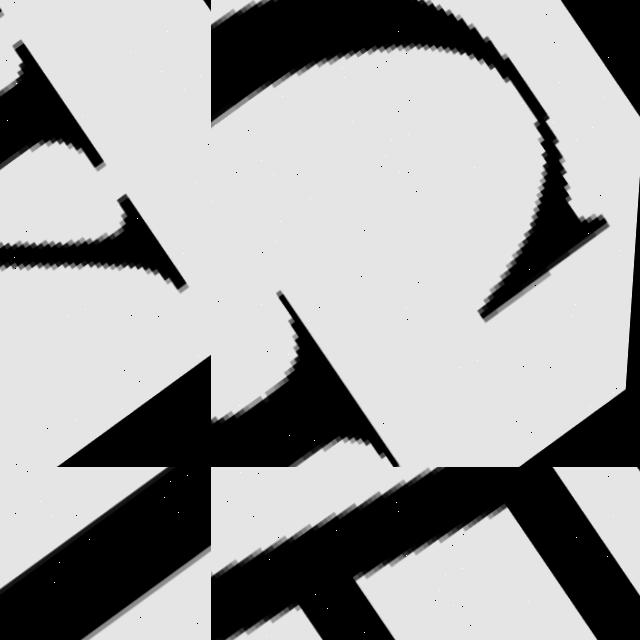F: (211, 467, 640, 640)
G: (211, 0, 640, 467)
T: (0, 467, 211, 640)
W: (0, 0, 211, 467)
